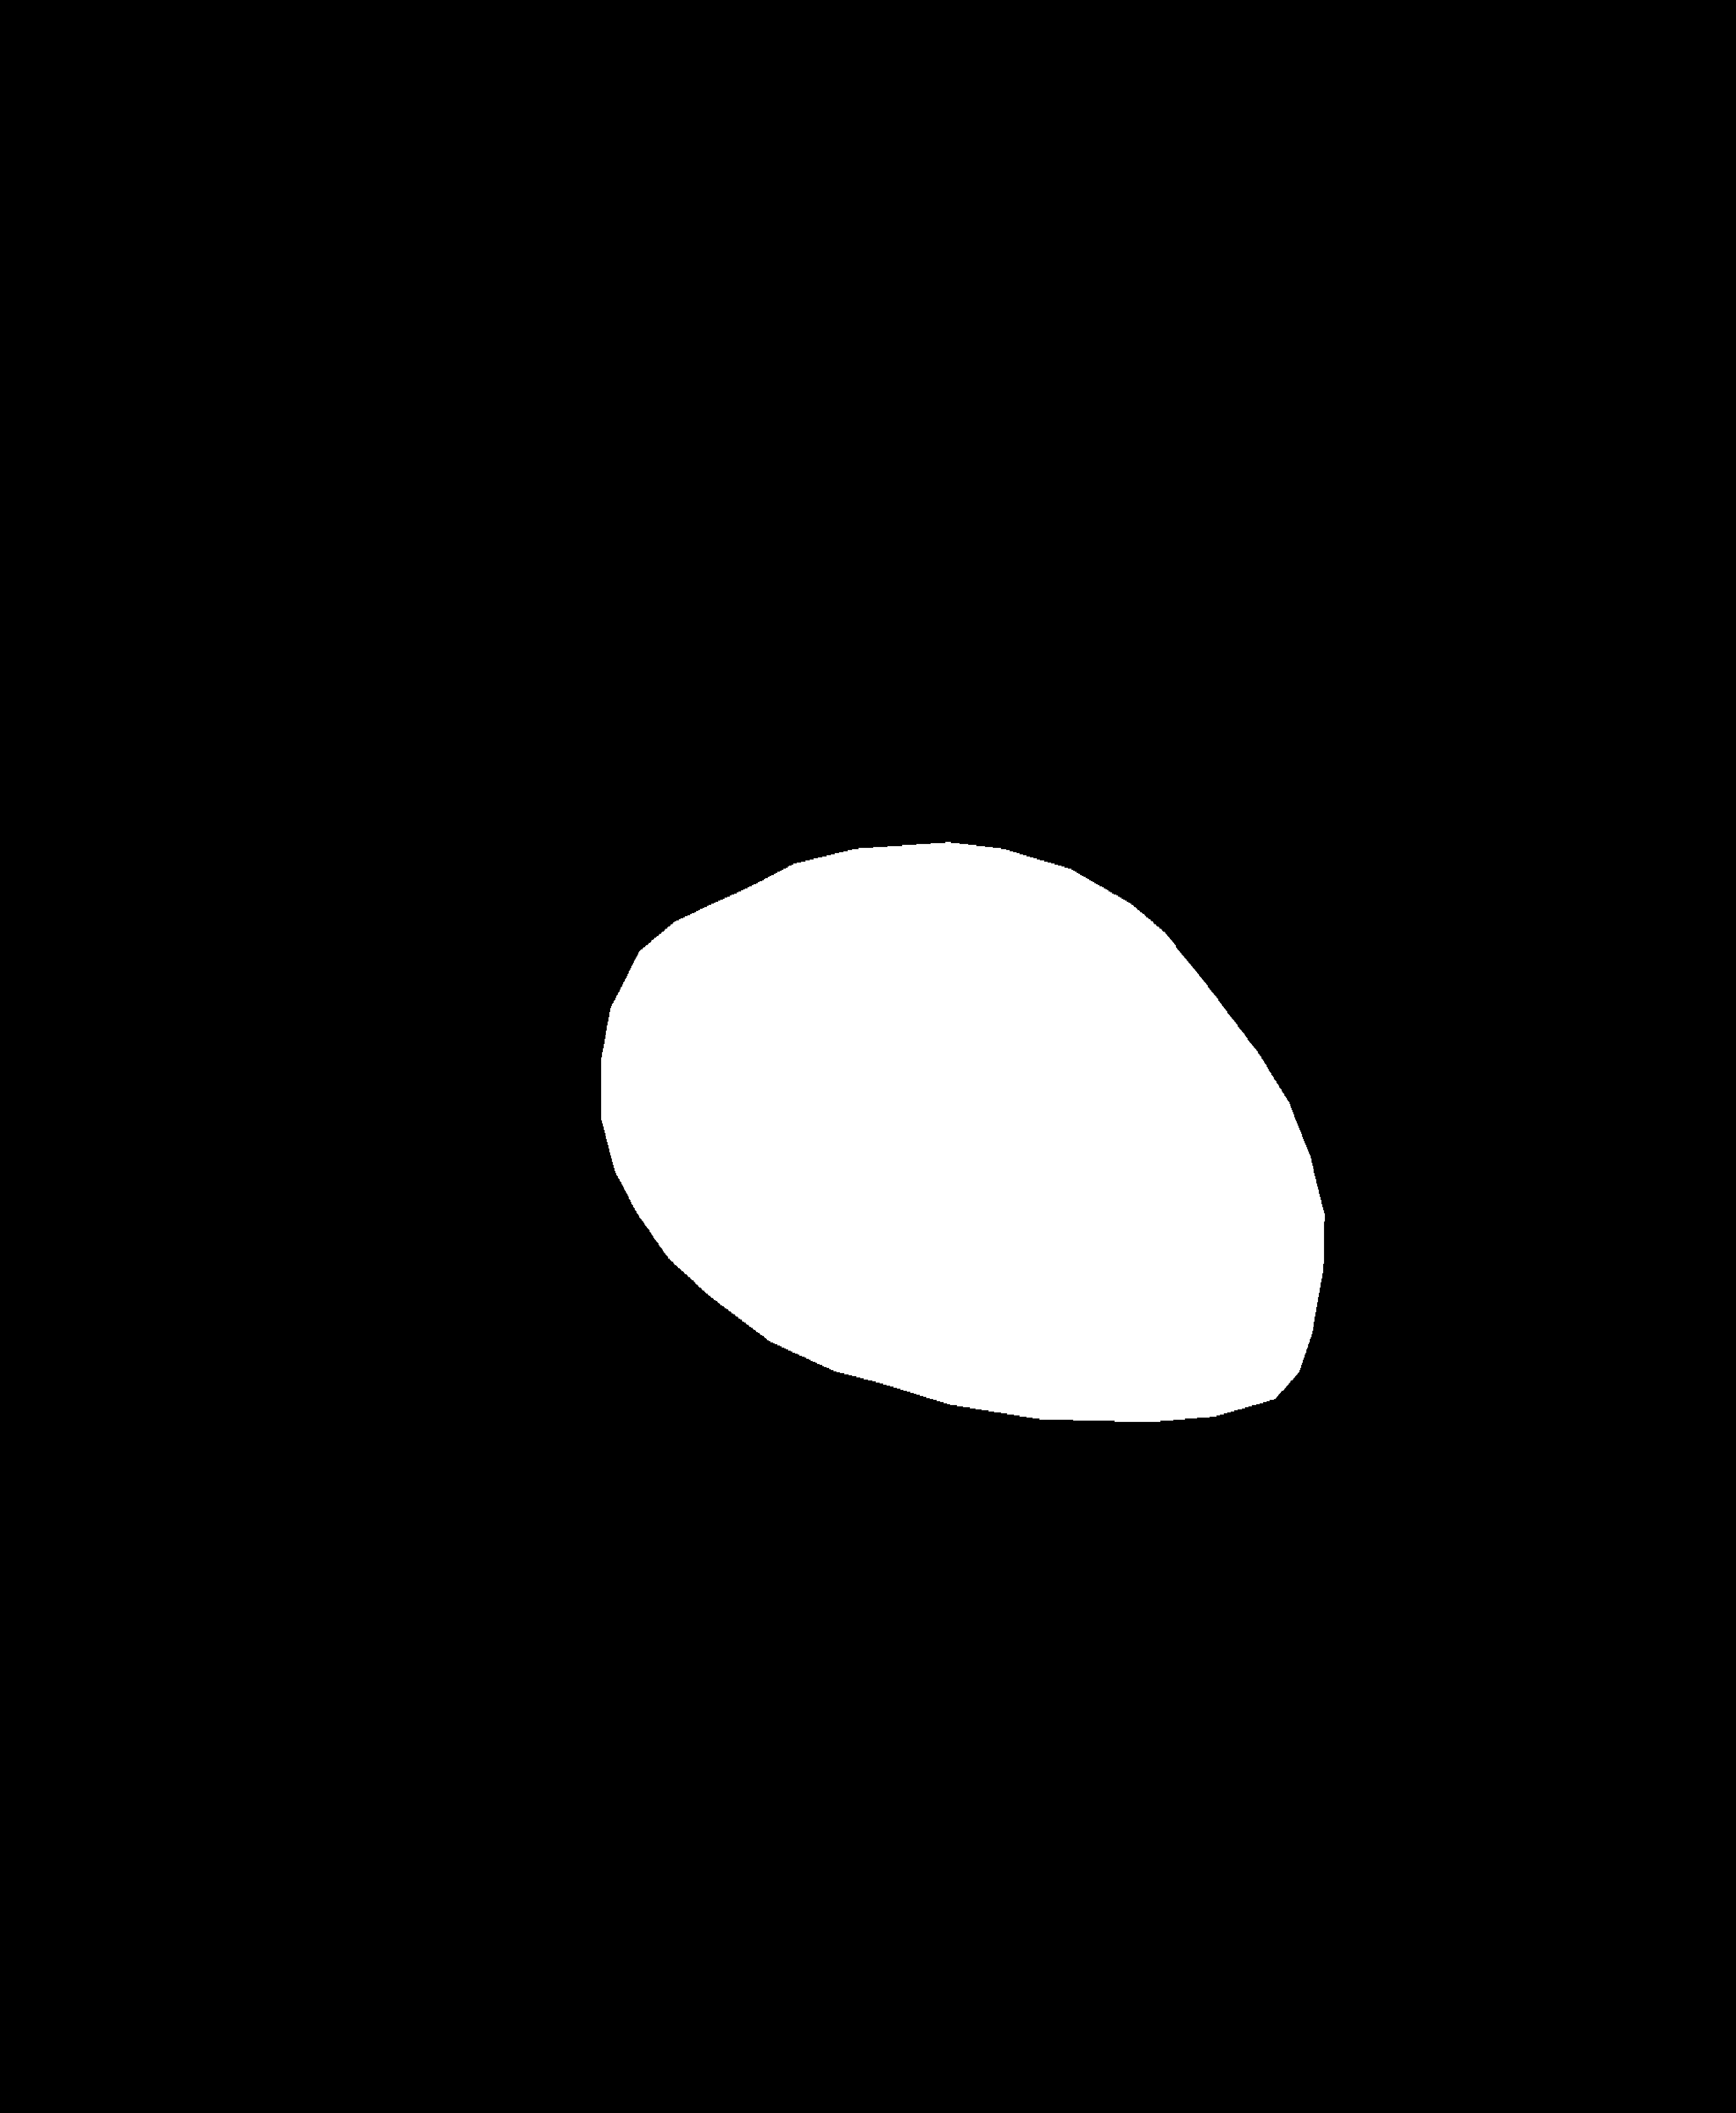heart: (604, 863, 1320, 1362)
left_lung: (154, 226, 830, 1520)
right_lung: (943, 230, 1629, 1460)
